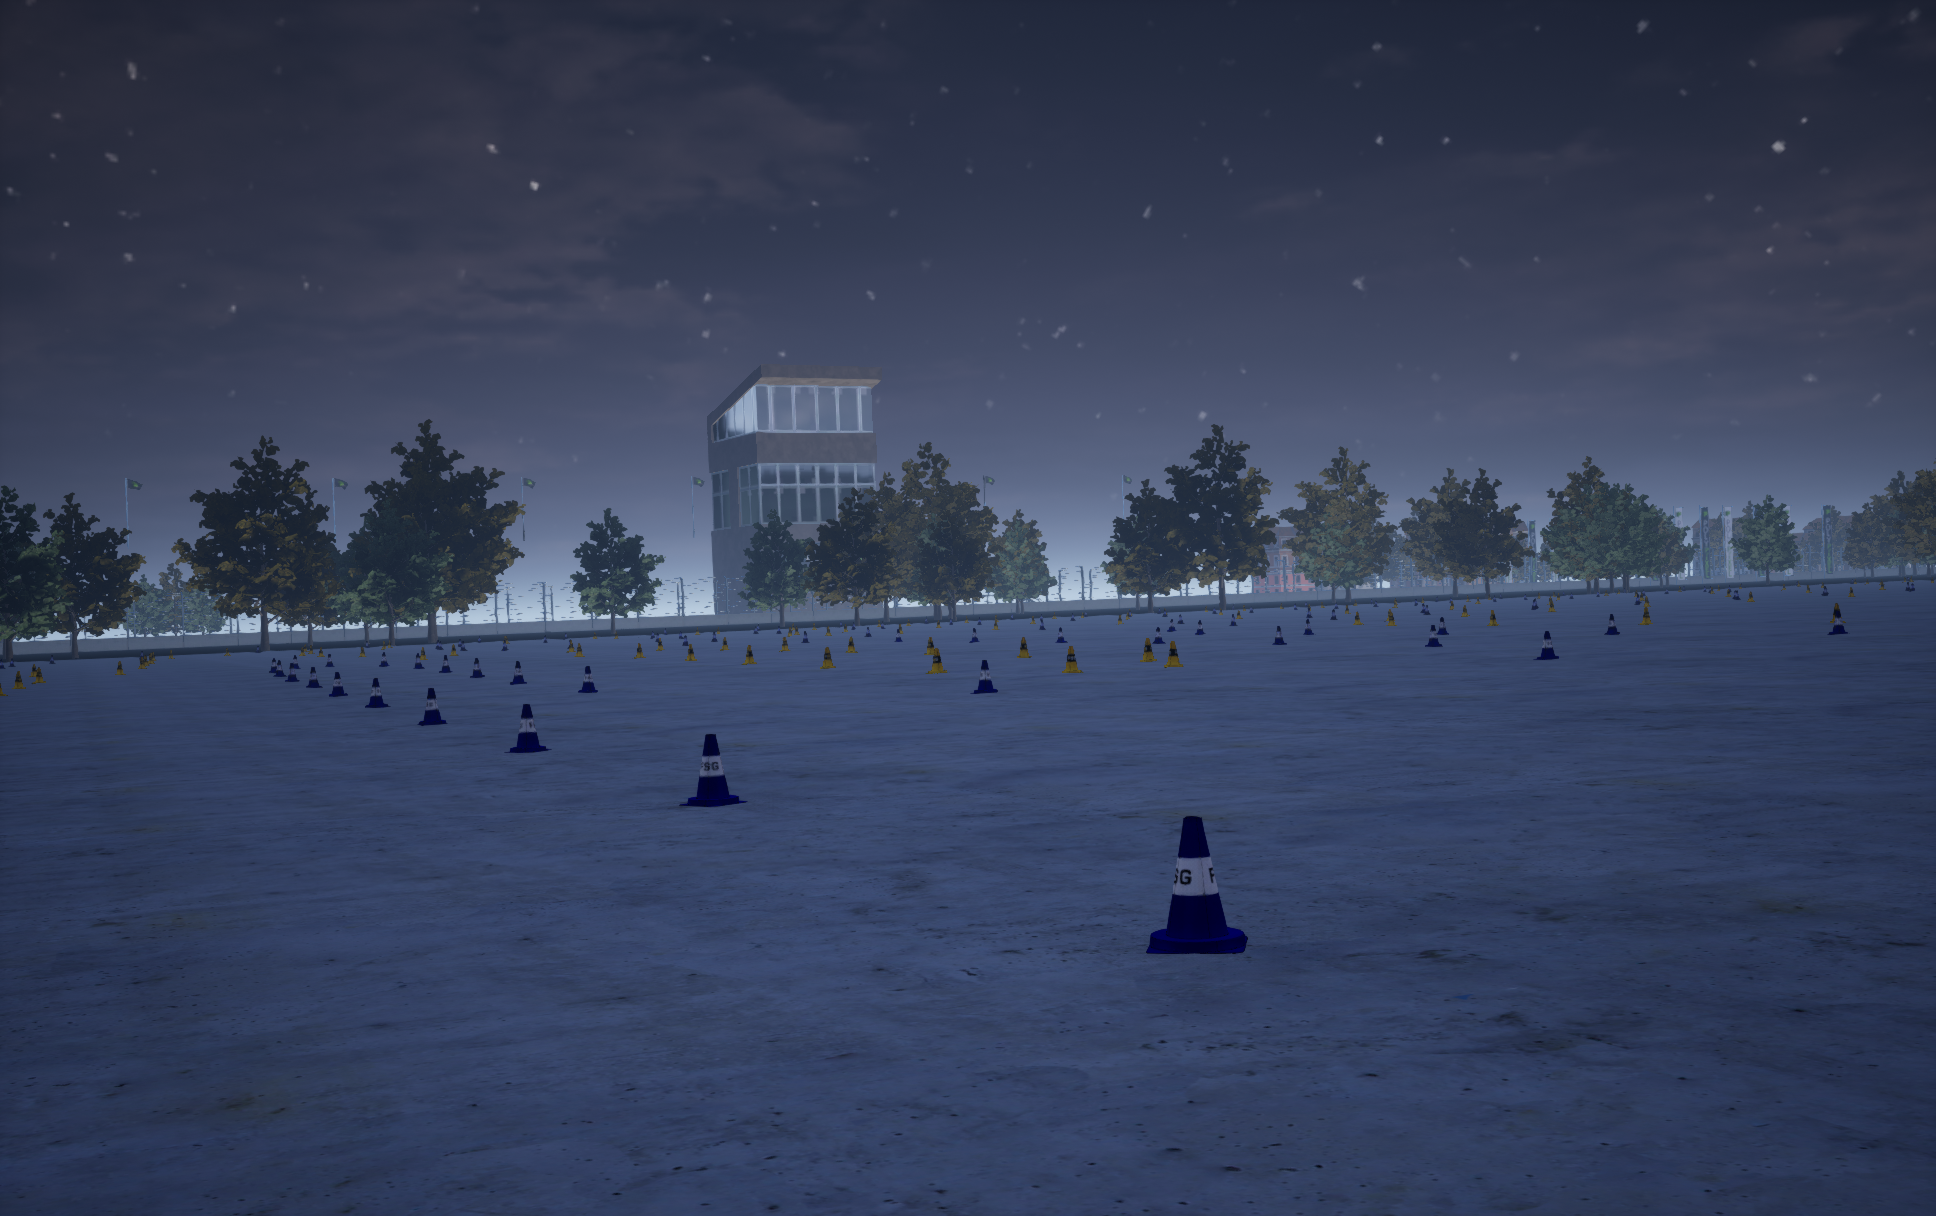blue: (925, 649, 948, 672), (1062, 646, 1083, 672), (1164, 642, 1182, 667), (1140, 637, 1156, 661), (820, 647, 835, 668), (741, 644, 756, 664), (1830, 602, 1845, 622), (1017, 637, 1031, 657)
yellow: (1146, 815, 1247, 953), (679, 734, 747, 806), (504, 705, 551, 752), (417, 688, 447, 726), (969, 660, 997, 693), (1533, 630, 1558, 658), (366, 678, 389, 707), (1827, 611, 1849, 635), (579, 665, 597, 692), (329, 672, 347, 696), (1425, 625, 1441, 646), (510, 661, 525, 684), (305, 667, 322, 686), (1604, 614, 1619, 635), (471, 658, 485, 677), (1272, 626, 1286, 644), (284, 663, 298, 681)
